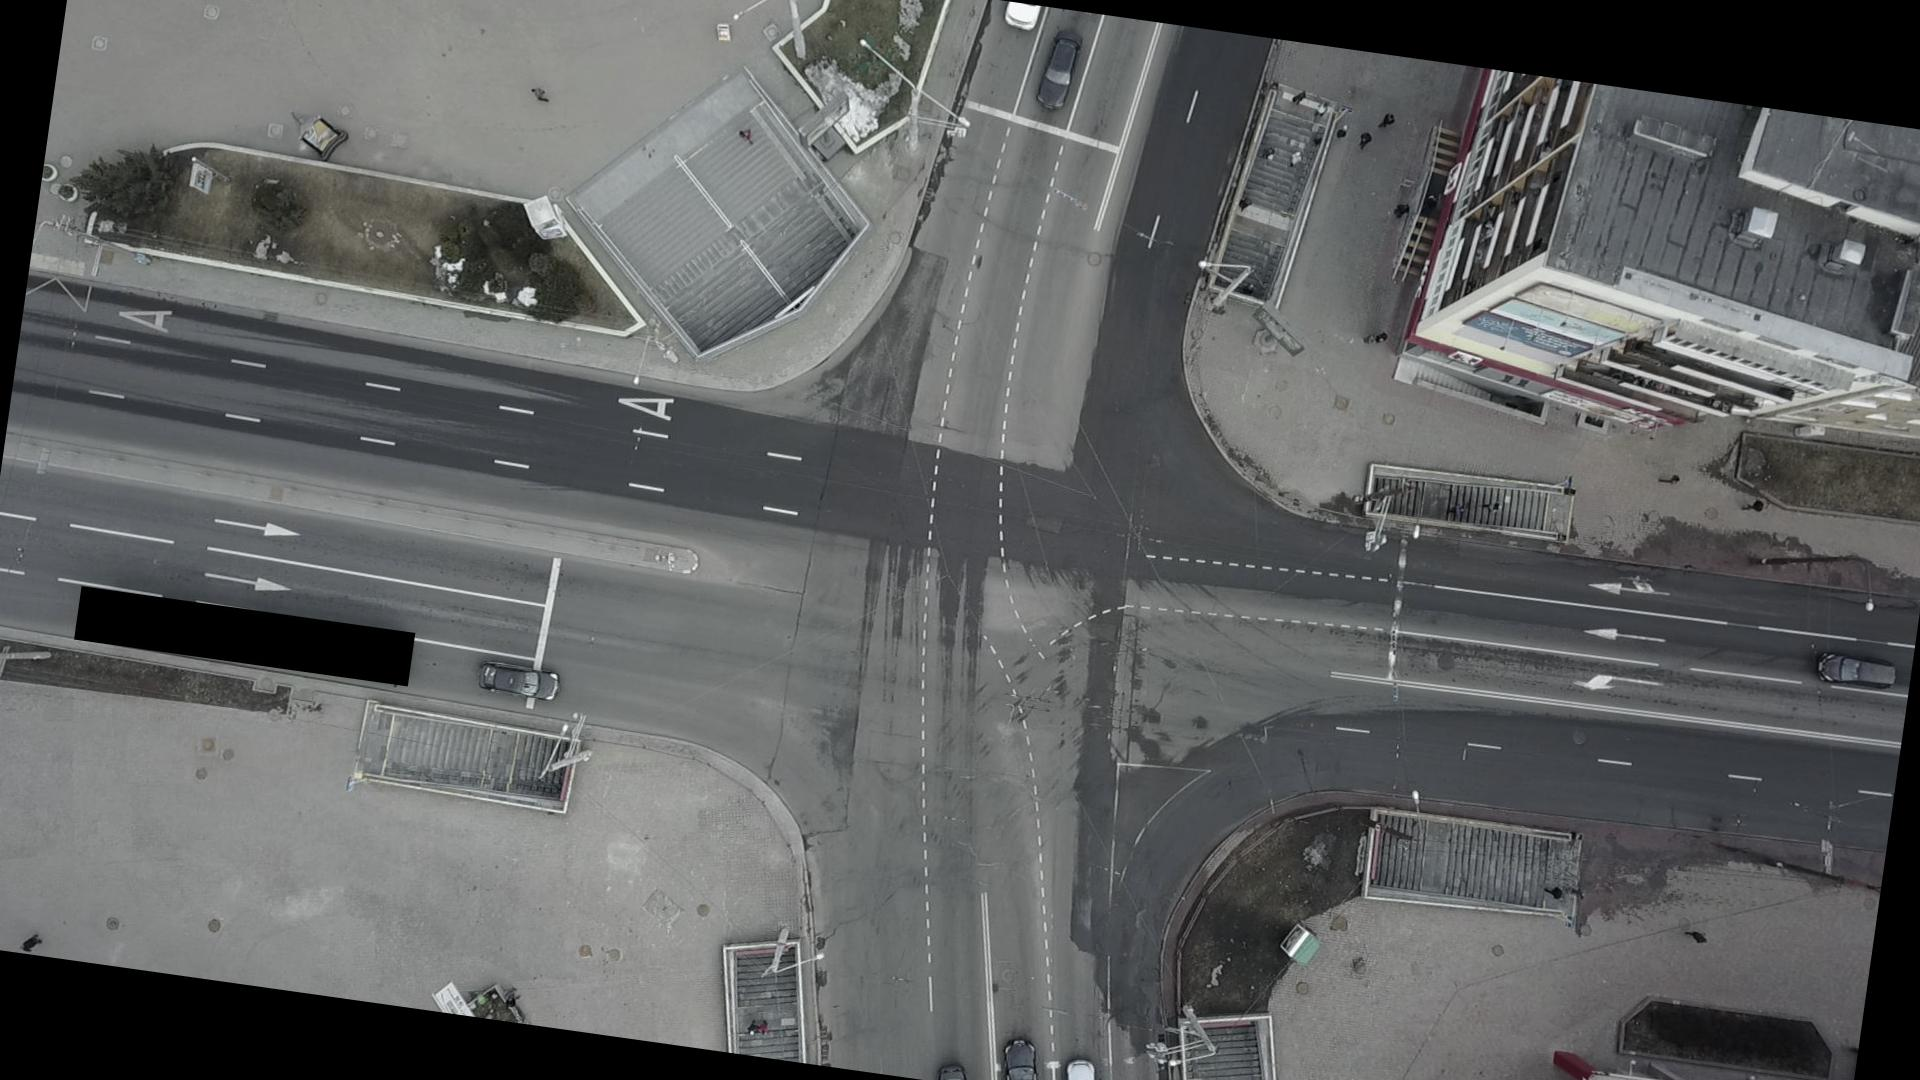vehicle: (1033, 26, 1084, 112), (474, 656, 563, 704), (1814, 650, 1896, 694)
